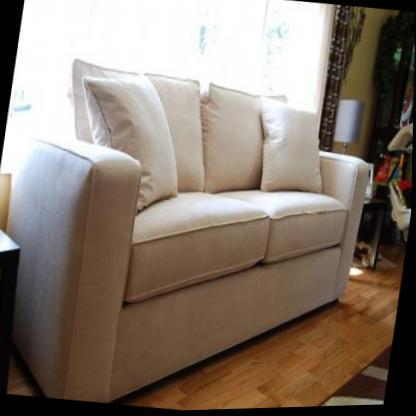Sofa: (0, 38, 389, 416)
